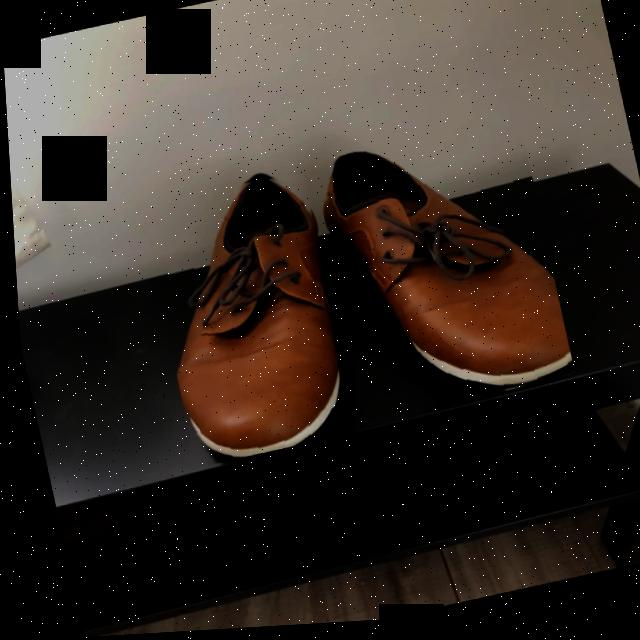shoe: (325, 157, 568, 395), (172, 183, 337, 461)
